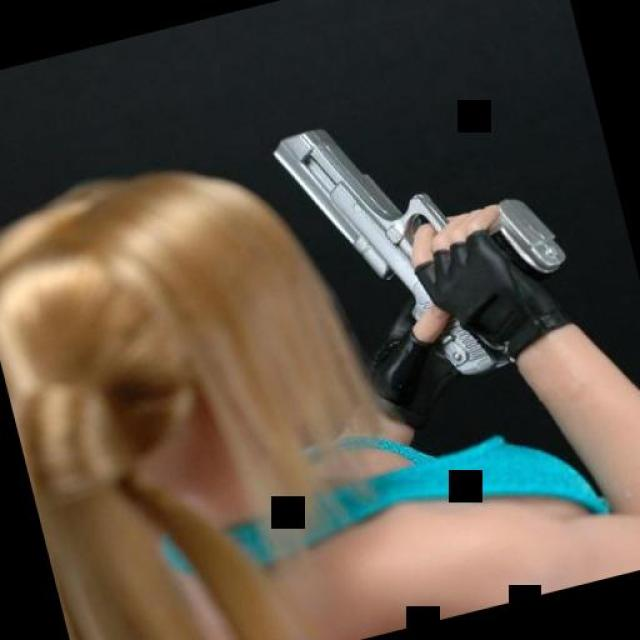gun: (252, 62, 598, 422)
